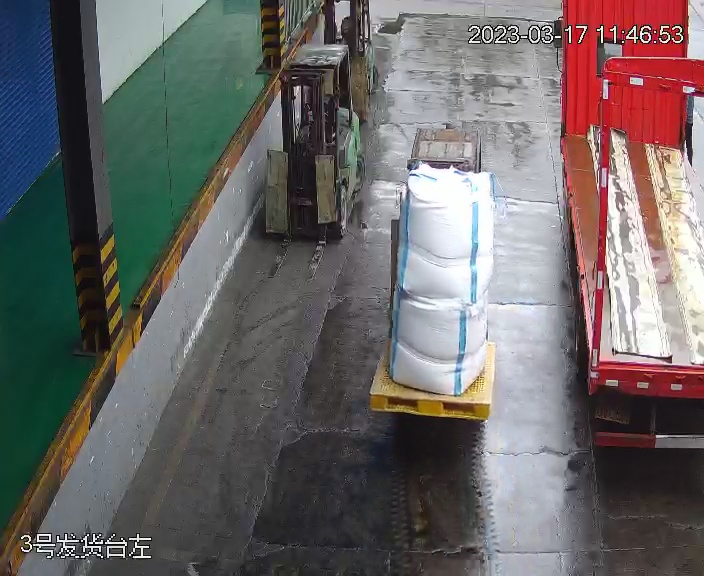truck: (544, 1, 704, 458)
